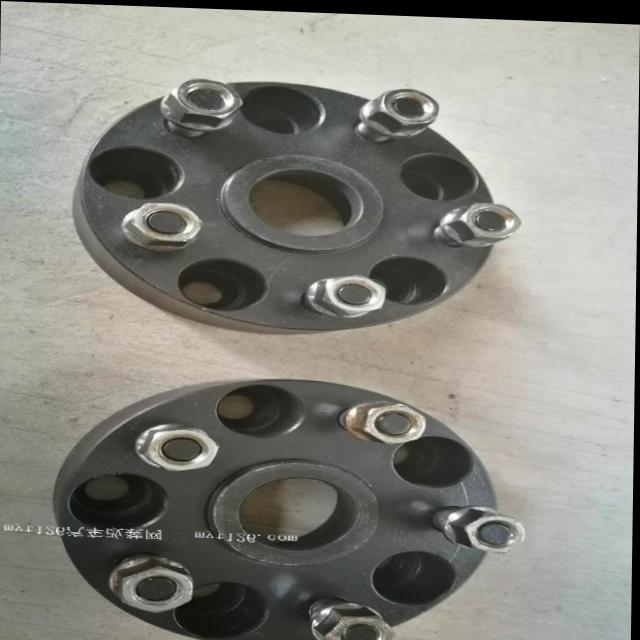Regular bolt: (111, 556, 198, 612), (161, 77, 244, 130), (362, 83, 439, 135), (142, 424, 223, 473), (446, 502, 529, 549), (125, 201, 203, 249), (441, 198, 521, 244), (350, 398, 430, 442), (312, 271, 385, 315), (315, 602, 391, 640)
